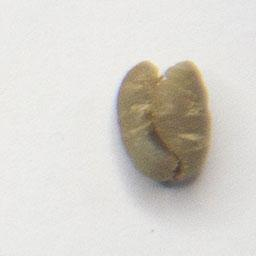peaberry: (113, 55, 214, 190)
